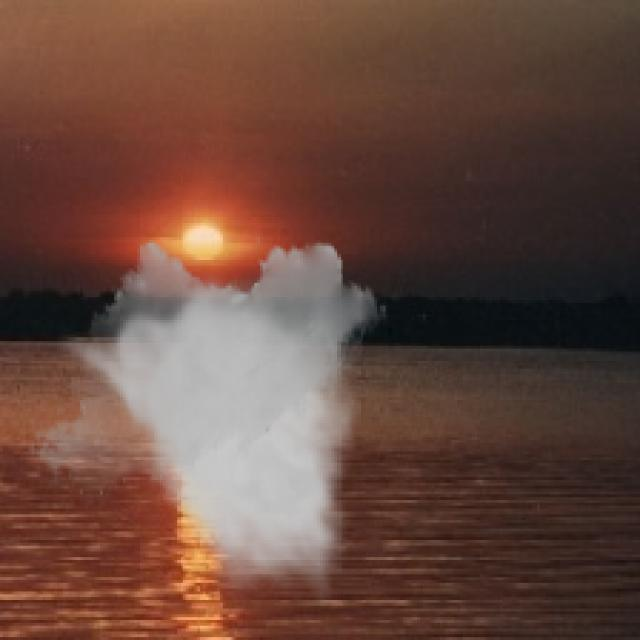Smoke: (26, 231, 388, 603)
